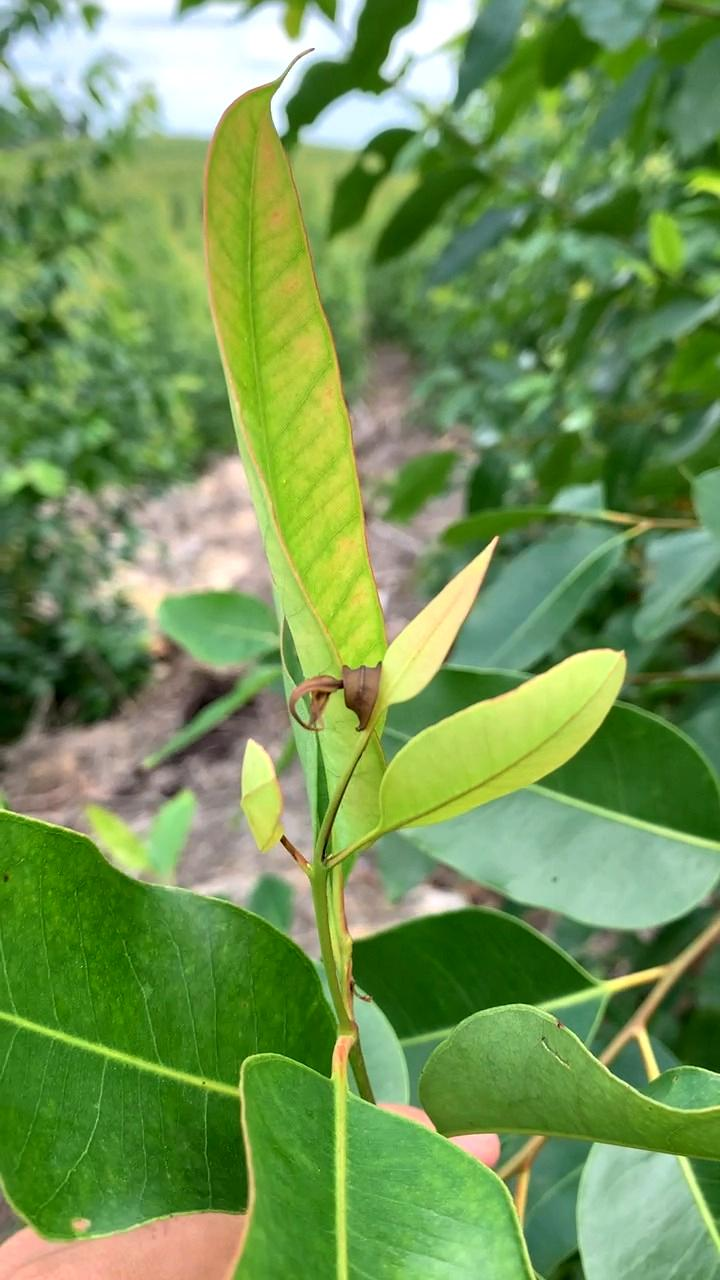Helopeltis-Withered Sprout: (283, 648, 403, 763)
